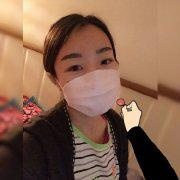OK: (57, 40, 119, 115)
